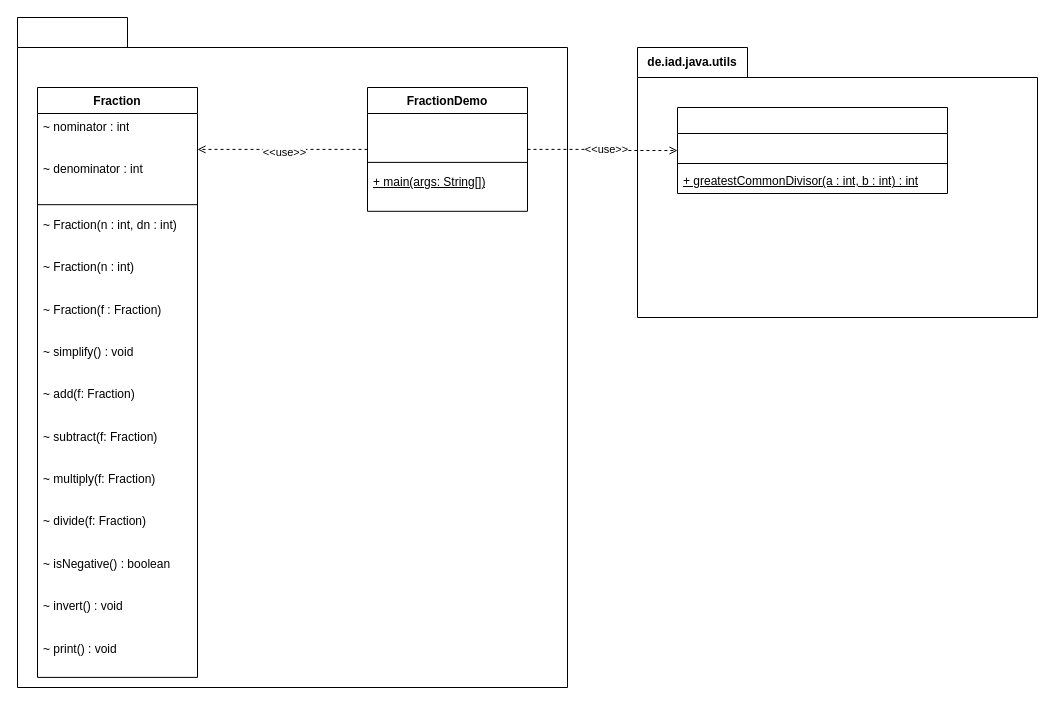
Some shapes in this 1055 by 705 pixel diagram are drawn without their labels. Each missing label, with the box of its shape:
de.iad.java: (16, 16, 568, 688)
MathAlgorithms: (676, 106, 948, 194)
